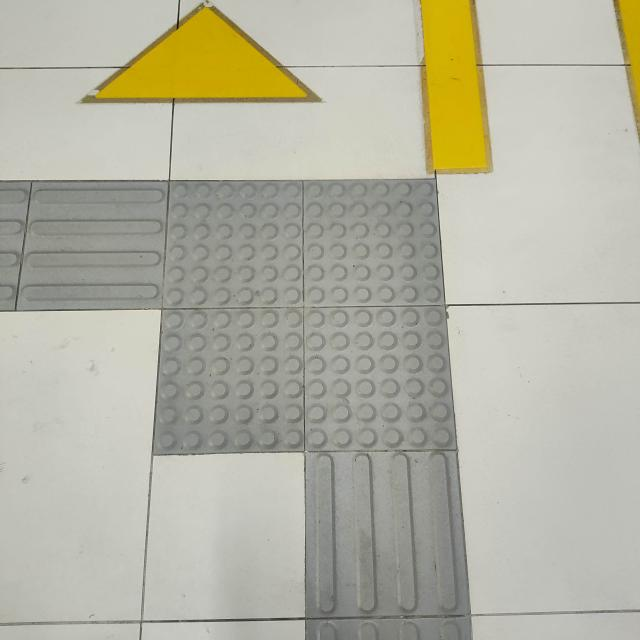kiri: (17, 124, 554, 565)
